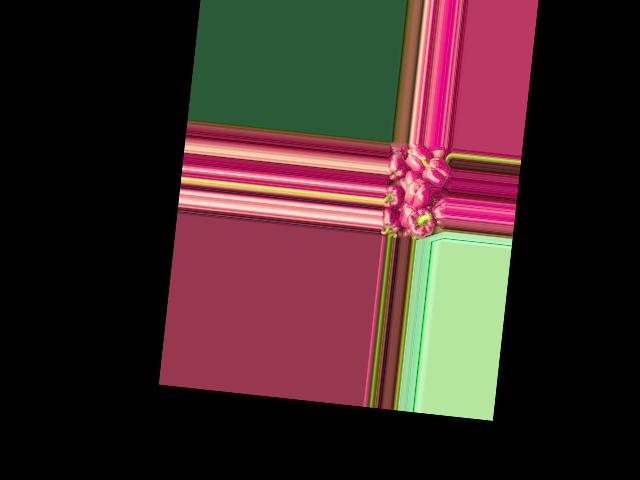bell_pepper: (380, 208, 401, 236)
